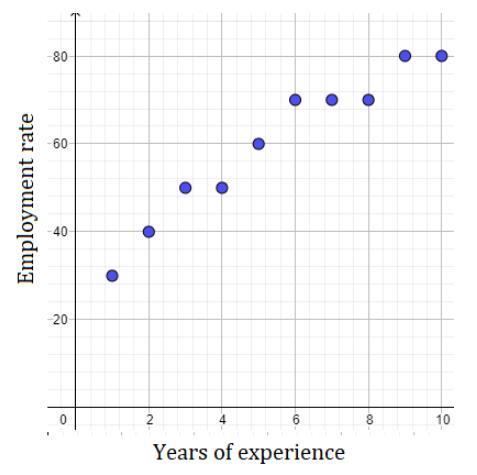point: (359, 89, 381, 109), (285, 91, 306, 111), (105, 265, 125, 285), (249, 133, 269, 153), (396, 45, 417, 64), (213, 177, 233, 196), (433, 46, 454, 64), (320, 92, 345, 107), (140, 223, 158, 241), (174, 180, 194, 195)
